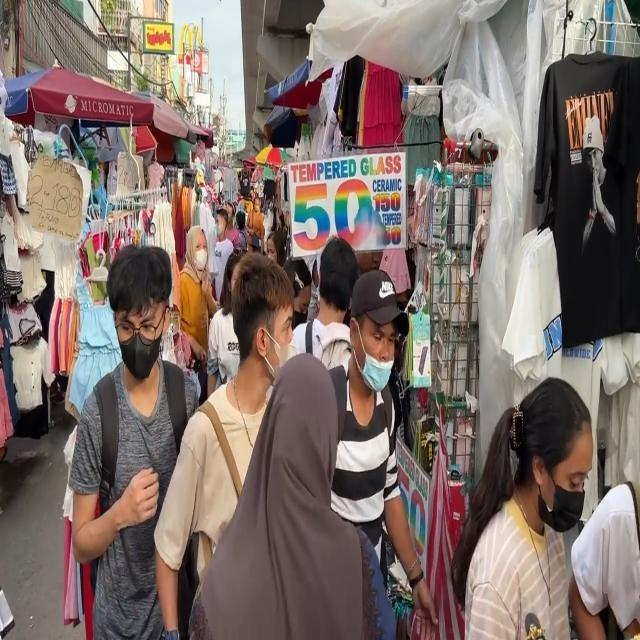hairnet: (358, 319, 396, 395)
